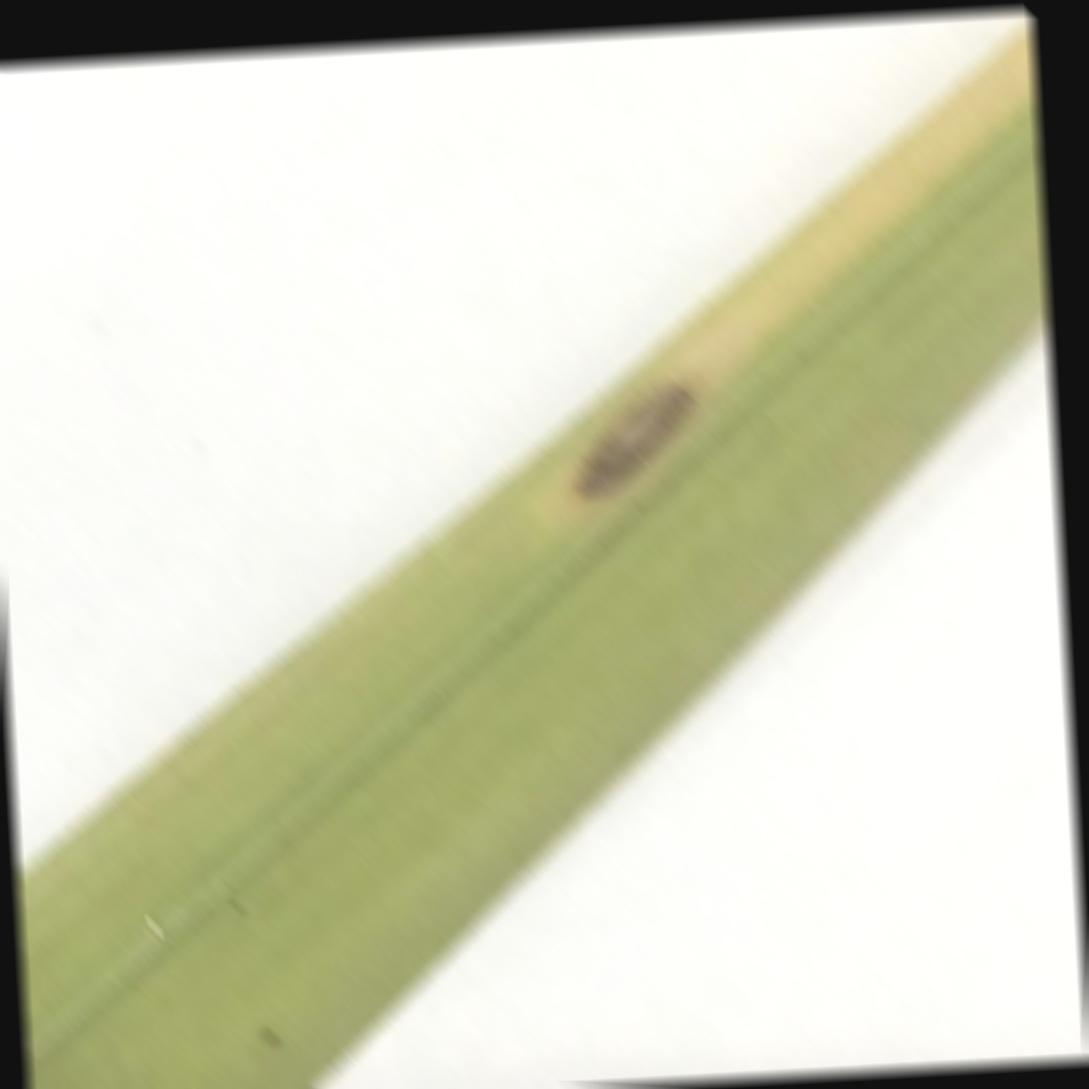Brown_Spot: (548, 351, 711, 527)
